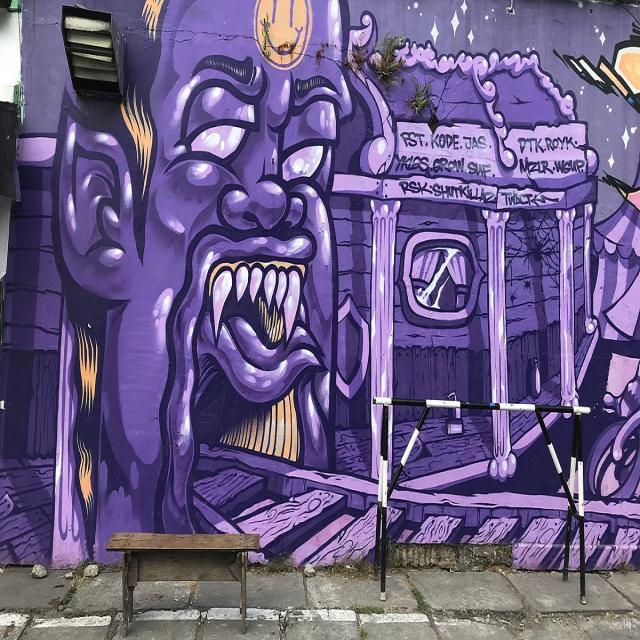-: (20, 0, 640, 562)
